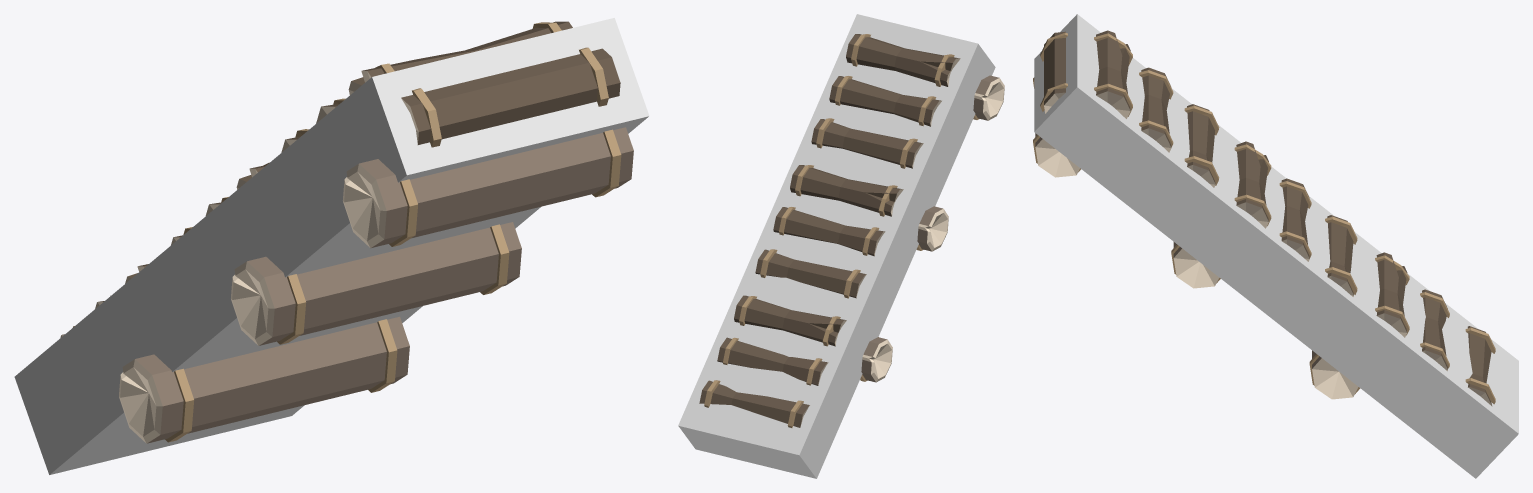
File: stairs_orc.glb
3 renders of one model, left to right at view 1: azimuth 30°, elevation 25°; view 2: azimuth 150°, elevation 25°; view 3: azimuth 270°, elevation 25°, orthographic. The views are drawn at different scales.
Parts seen in each view (by area): view 1: Cube, STAIRS_PART_03, STAIRS_PART_01, STAIRS_PART_02; view 2: Cube, STAIRS_PART_03, STAIRS_PART_02, STAIRS_PART_01; view 3: Cube, STAIRS_PART_03, STAIRS_PART_02, STAIRS_PART_01.
Boxes of the visible parts, bbox=[...] form: Cube: bbox=[14, 18, 649, 474]; STAIRS_PART_03: bbox=[281, 21, 633, 248]; STAIRS_PART_01: bbox=[60, 264, 409, 443]; STAIRS_PART_02: bbox=[171, 162, 521, 345]; Cube: bbox=[678, 14, 995, 478]; STAIRS_PART_03: bbox=[811, 34, 1004, 168]; STAIRS_PART_02: bbox=[755, 165, 948, 298]; STAIRS_PART_01: bbox=[699, 295, 892, 427]; Cube: bbox=[1034, 14, 1518, 478]; STAIRS_PART_03: bbox=[1033, 30, 1219, 187]; STAIRS_PART_02: bbox=[1171, 141, 1357, 296]; STAIRS_PART_01: bbox=[1309, 252, 1495, 406].
Size of the model in its own units: 1.65 by 3.78 by 4.25.
1 material, 1 textured.
